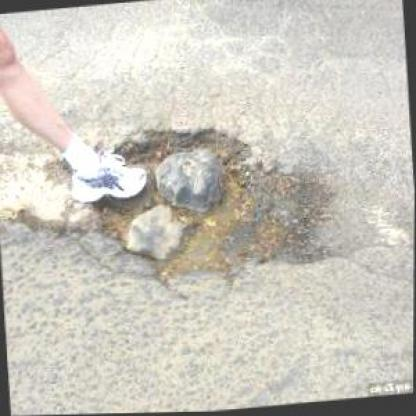pothole: (84, 111, 342, 288)
